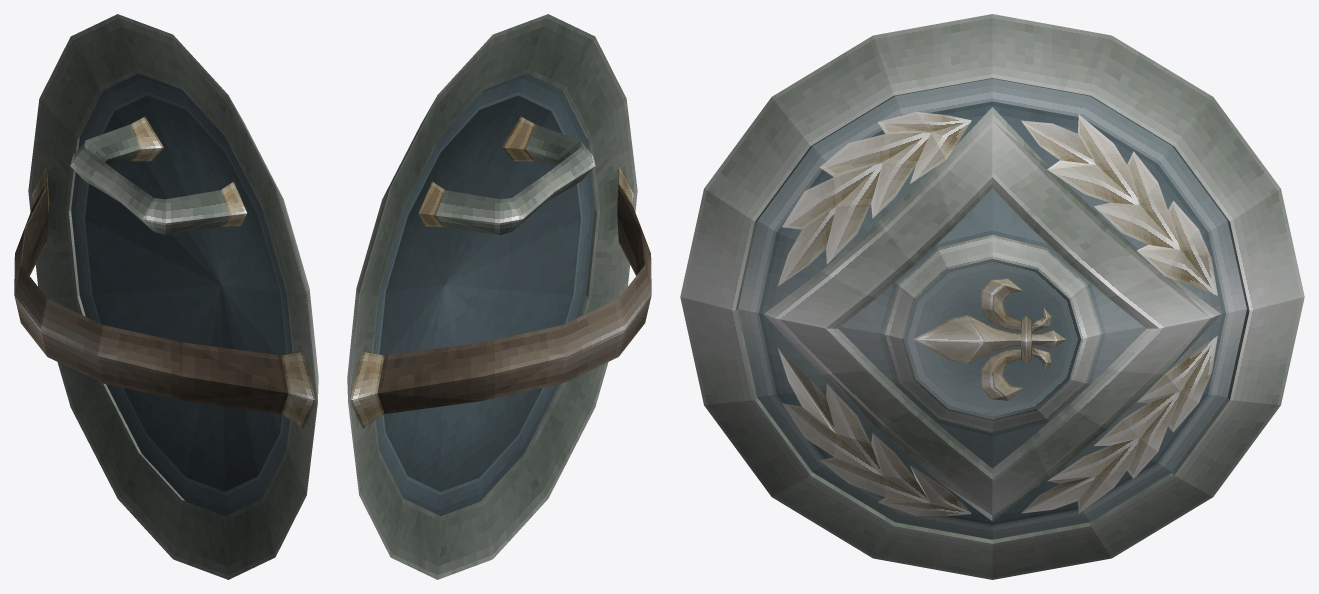
Rendered from arms7144.obj.
3 views of the same model, side by side, from view 1: azimuth 30°, elevation 25°; view 2: azimuth 150°, elevation 25°; view 3: azimuth 270°, elevation 25° (orthographic). The views are drawn at different scales.
Parts seen in each view (by area): view 1: arms7144; view 2: arms7144; view 3: arms7144.
Part boxes in pixels (x1,y1,x2,y2): arms7144: (14, 14, 318, 579); arms7144: (347, 14, 651, 579); arms7144: (680, 14, 1304, 579).
Bounding box in the file's own units: 0.4455 × 1.03 × 1.03.
Materials: 1 (1 with a texture image).
